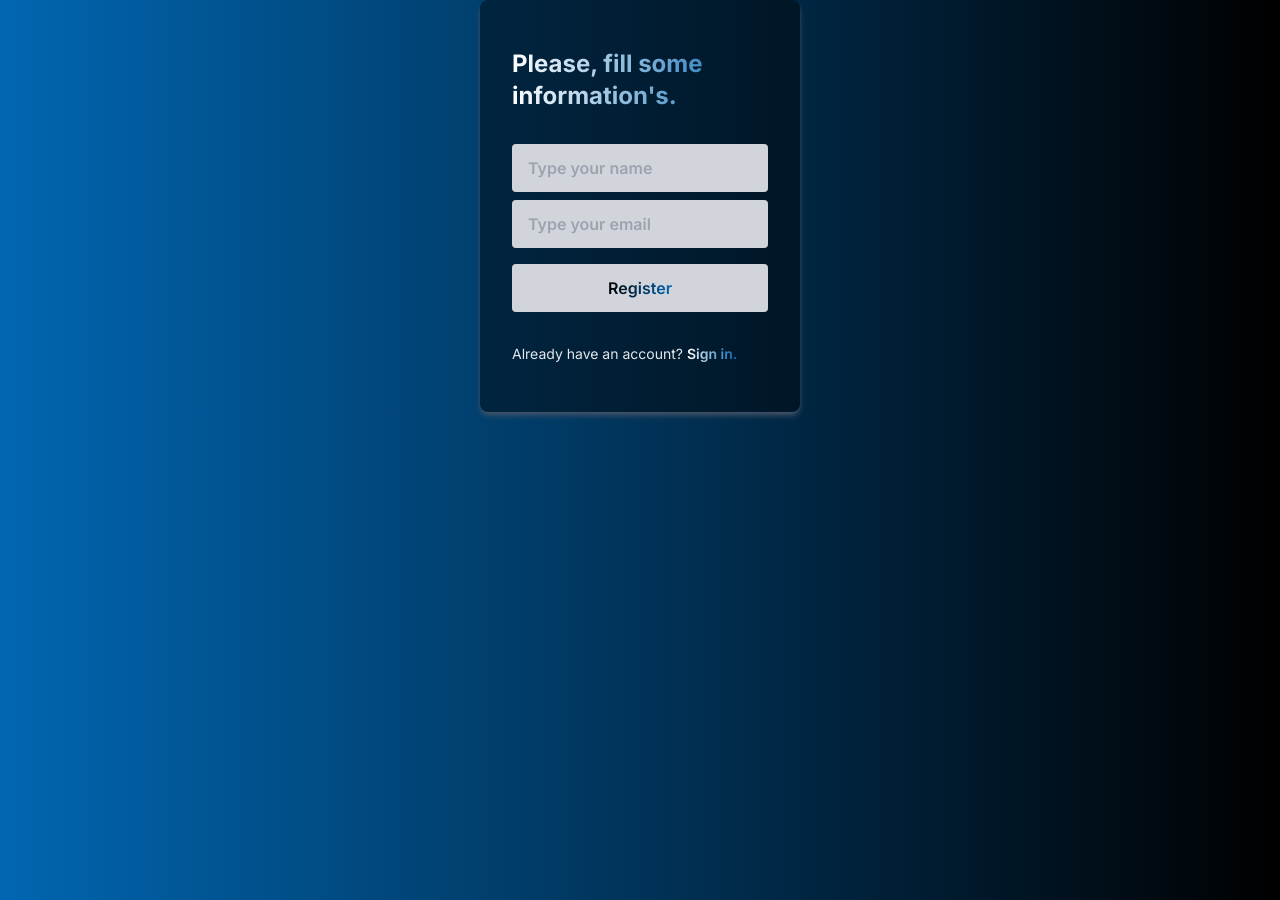
<SignUpForm /> › should register function work correctly
Step 1. Type "Vagner" into the field with placeholder "Type your name" → (640, 168), box [512,144,768,192]
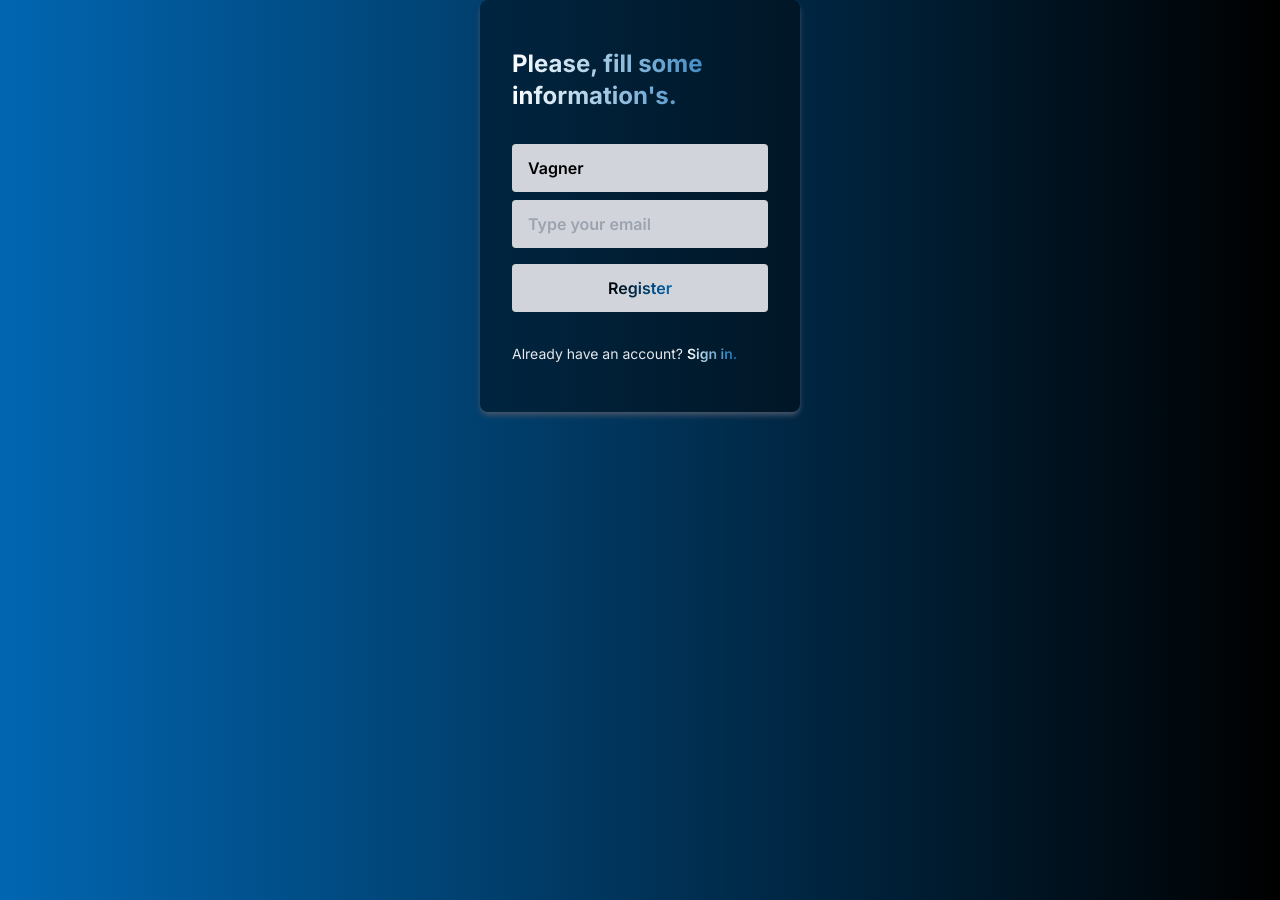
Step 2. Type "vagnereix.dev@gmail.com" into the field with placeholder "Type your email" → (640, 224), box [512,200,768,248]
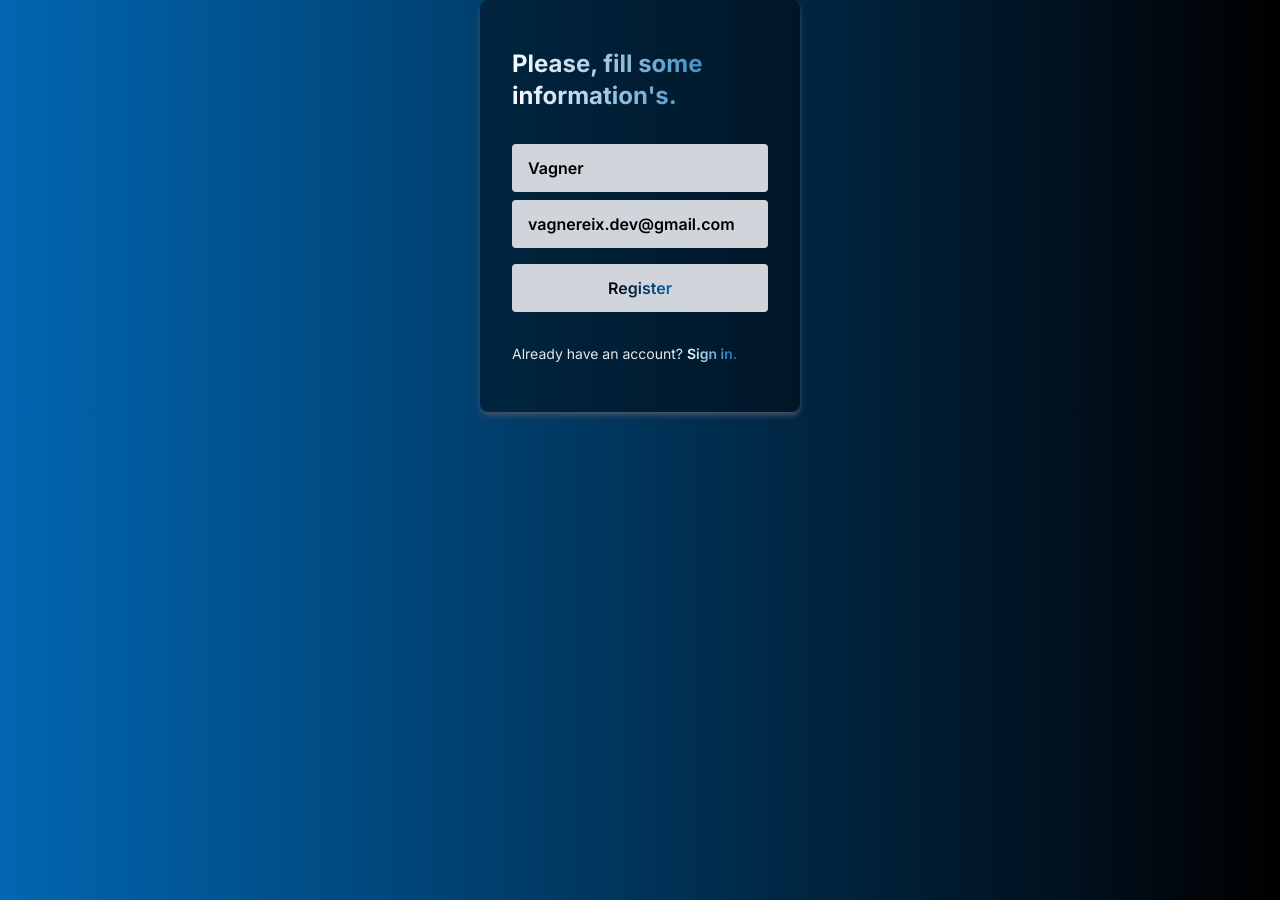
Step 3. Click the button → (640, 288), box [512,264,768,312]
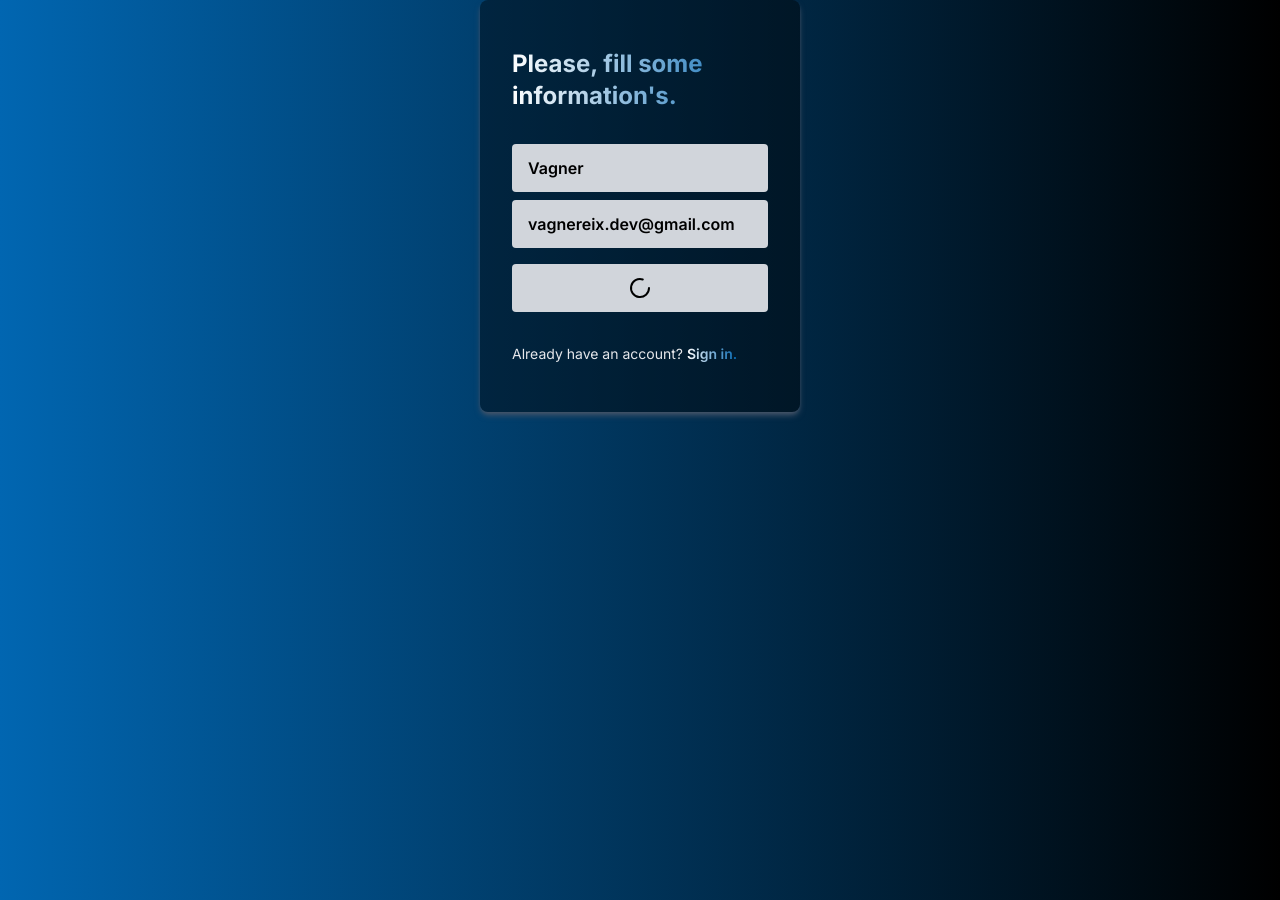
expect the icon with test id "loading-indicator" is shown: met, box [628,276,652,300]
